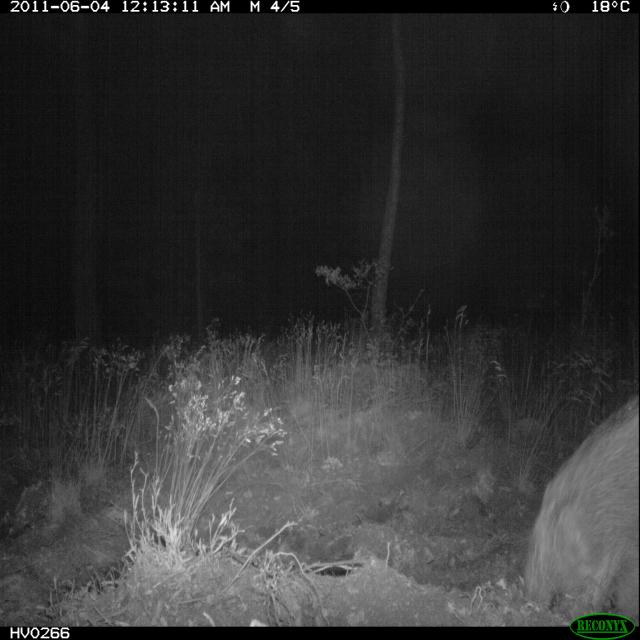boar: (499, 352, 640, 628)
